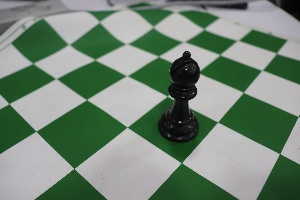black_bishop: (155, 40, 204, 147)
